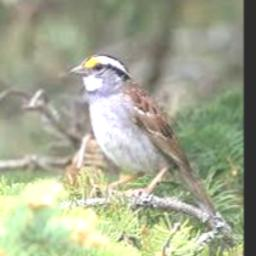Sparrow: (70, 53, 218, 221)
